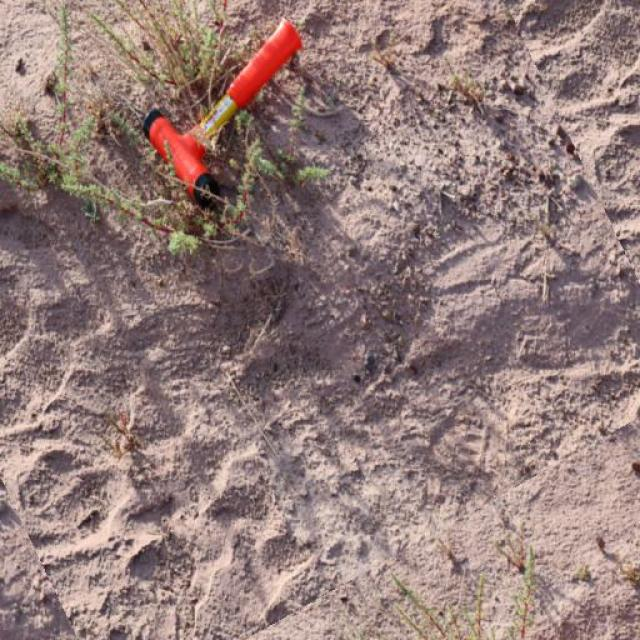mallet: (140, 15, 302, 209)
